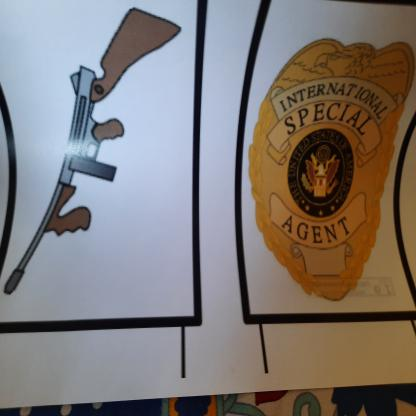Bootlegger: (6, 5, 188, 318)
G-man: (250, 29, 416, 314)
